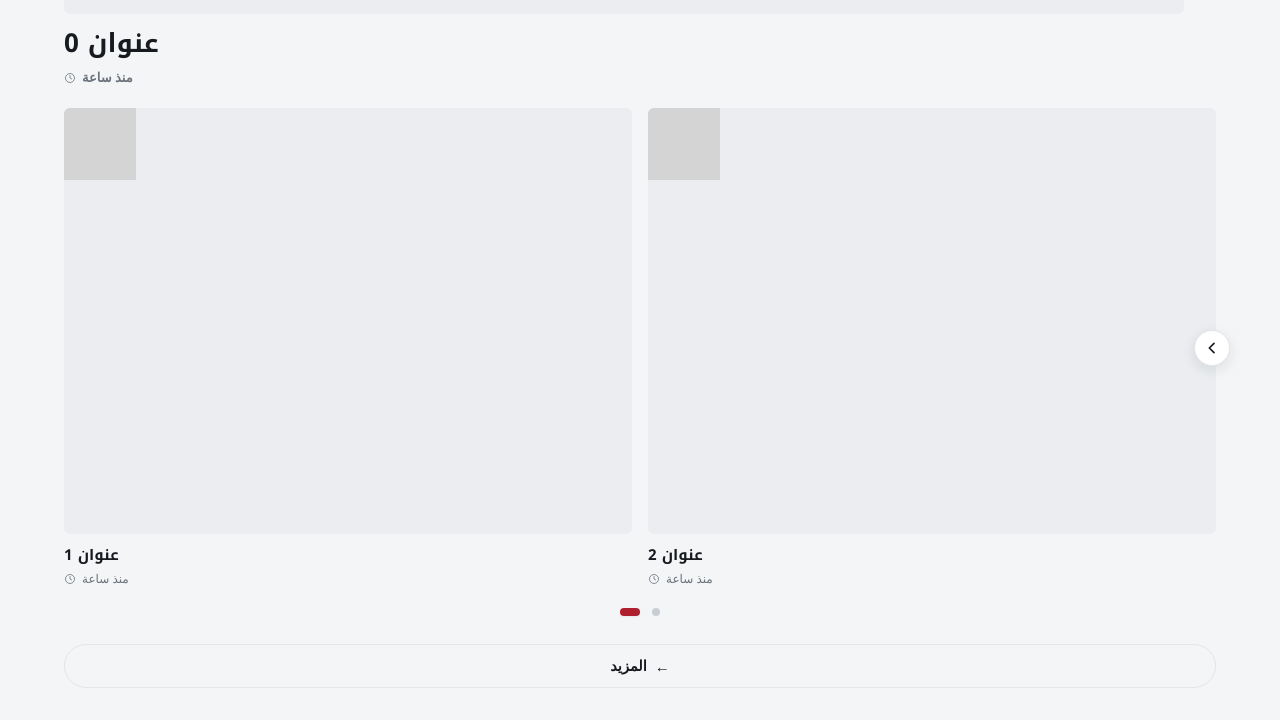
Test: HeroCarouselBlock › jumps directly to a page via its dot
This screenshot has width=1280, height=720.
(page scrolled)
Click the tab named "2".
click(656, 612)  # box [648,604,664,620]
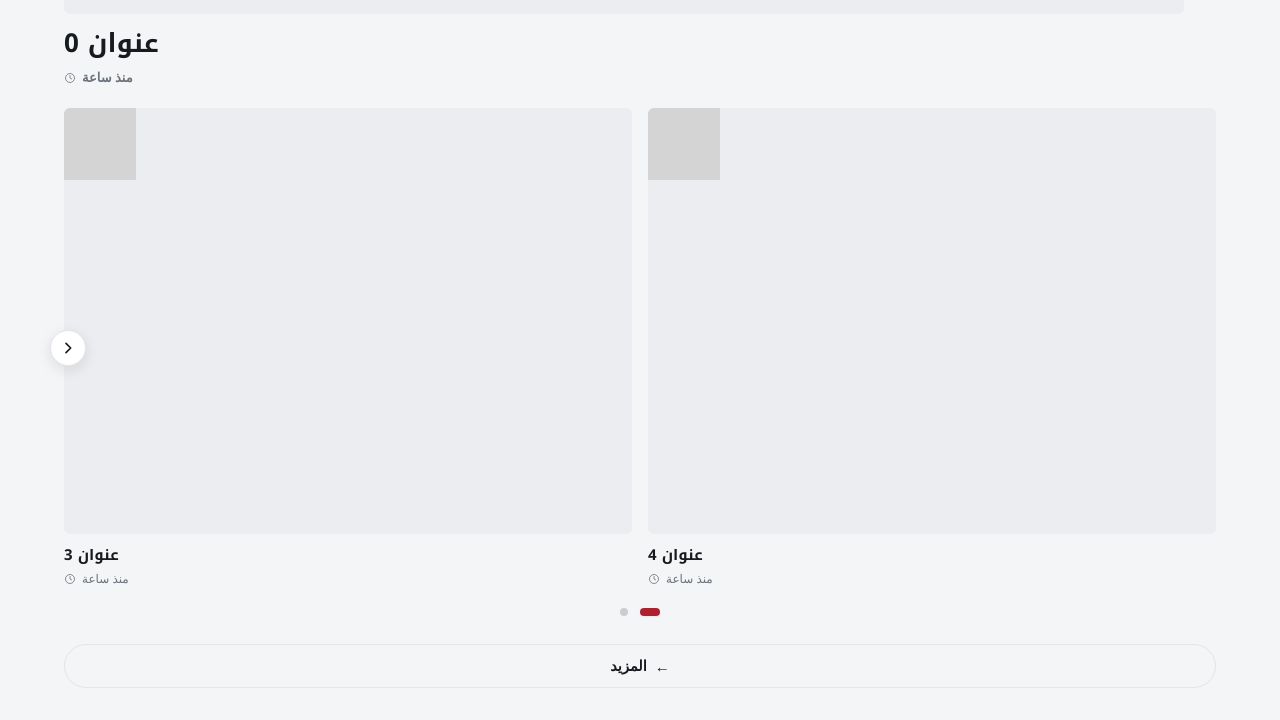
Expected: the link "عنوان 3 منذ ساعة" is shown, [64,108,632,588]
